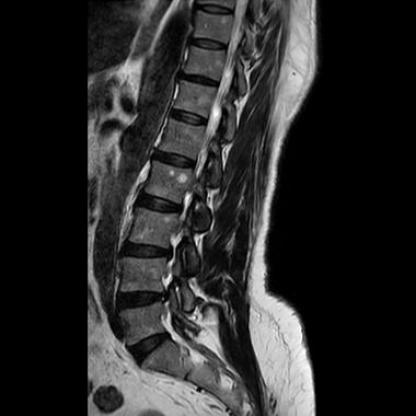Disc Bulgerotation: (116, 281, 164, 315), (119, 239, 171, 264)
